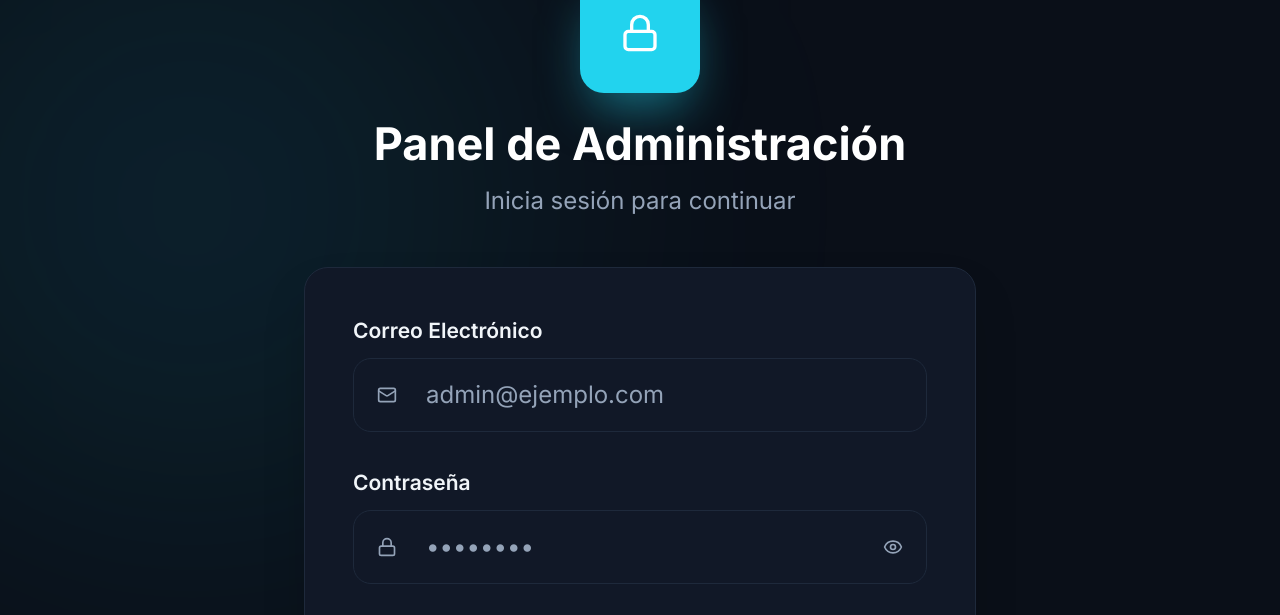
Test case: Admin Login › falla con credenciales incorrectas y se queda en login
The width and height of the screenshot is (1280, 615).
Type "wrong@email.com" into the field with id "email".
click(640, 395); type("wrong@email.com")  # box [353, 358, 927, 432]
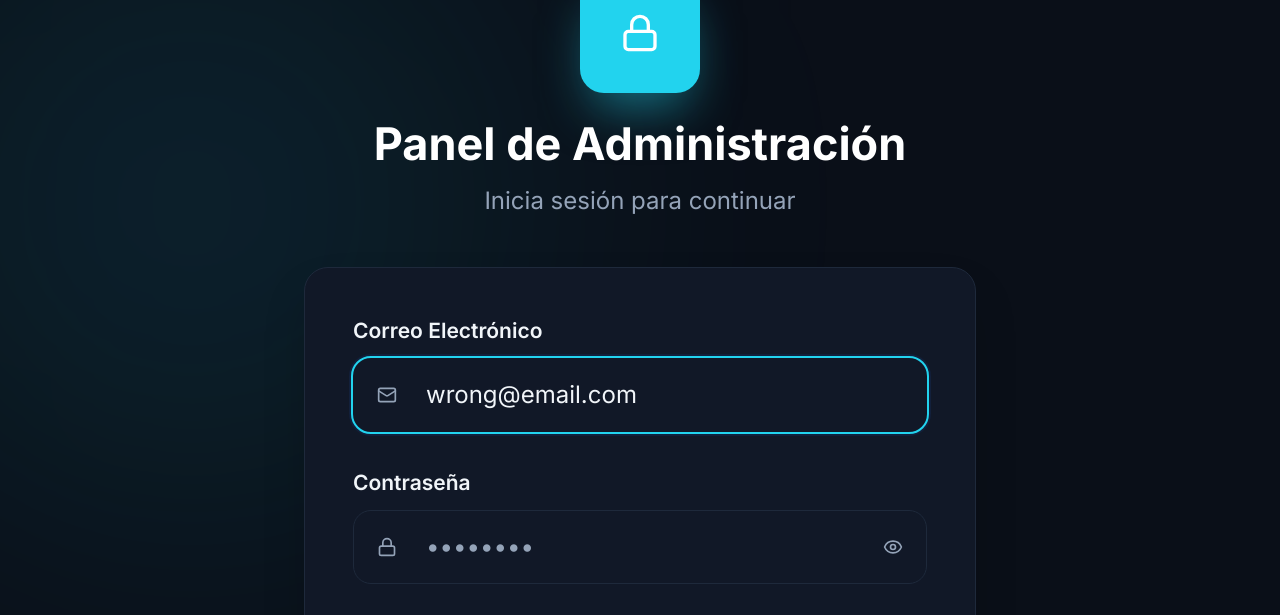
Type "wrongpassword" into the password field labelled "Contraseña".
click(640, 547); type("wrongpassword")  # box [353, 510, 927, 584]
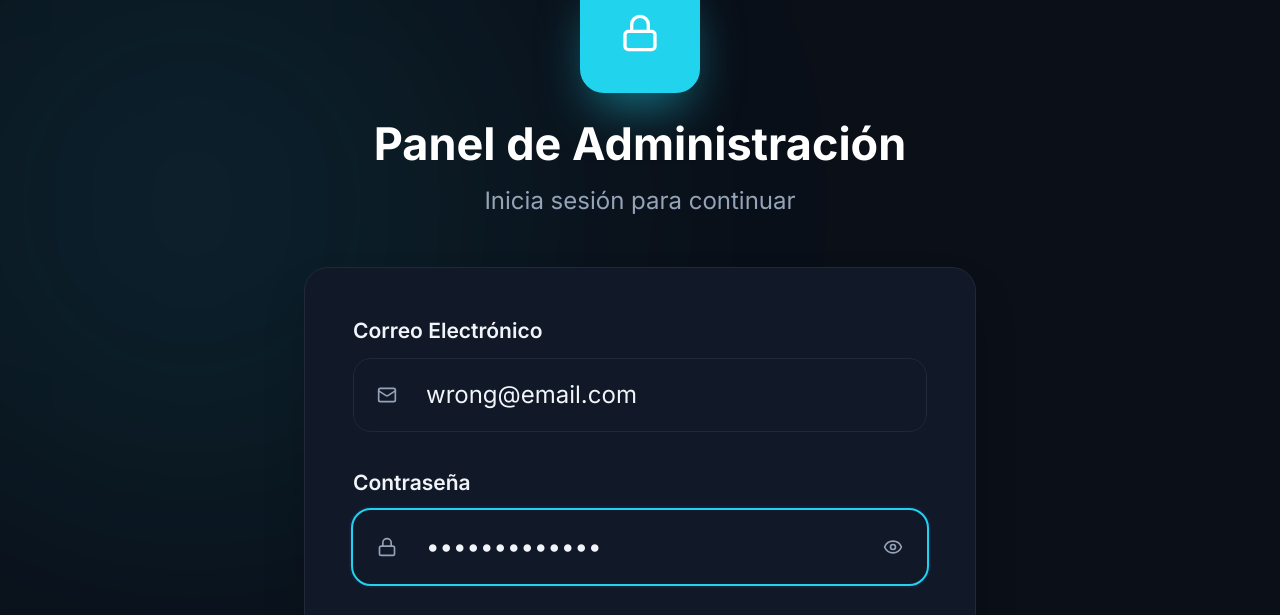
Scroll
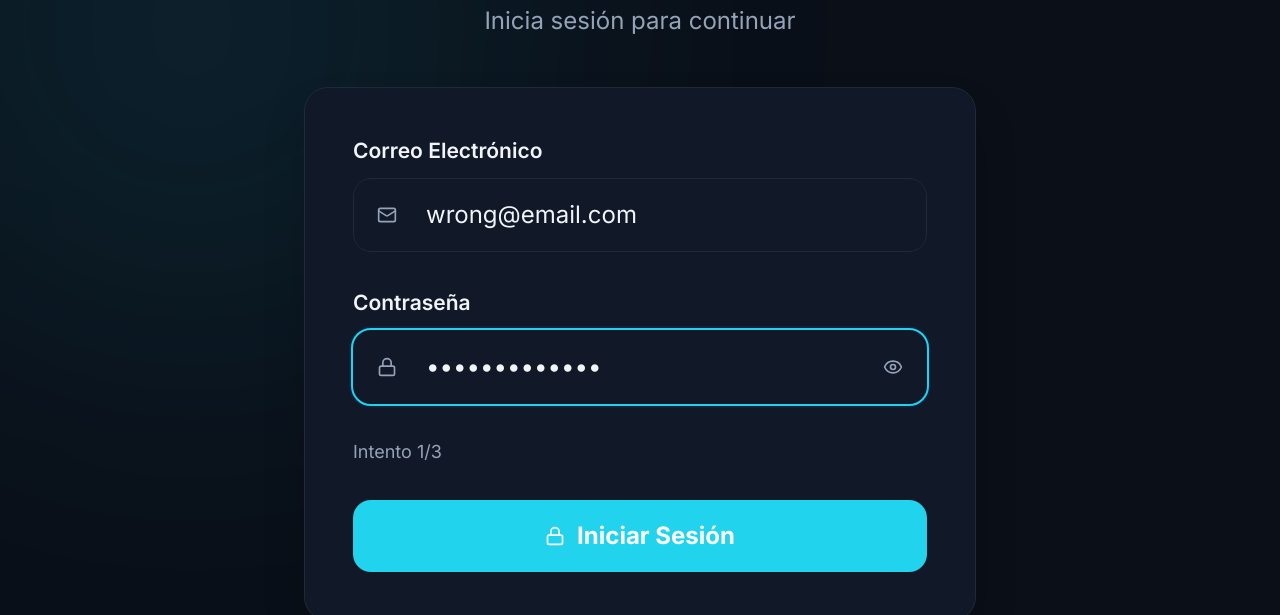
Click the button "Iniciar Sesión".
click(640, 536)  # box [353, 500, 927, 572]
(page scrolled)
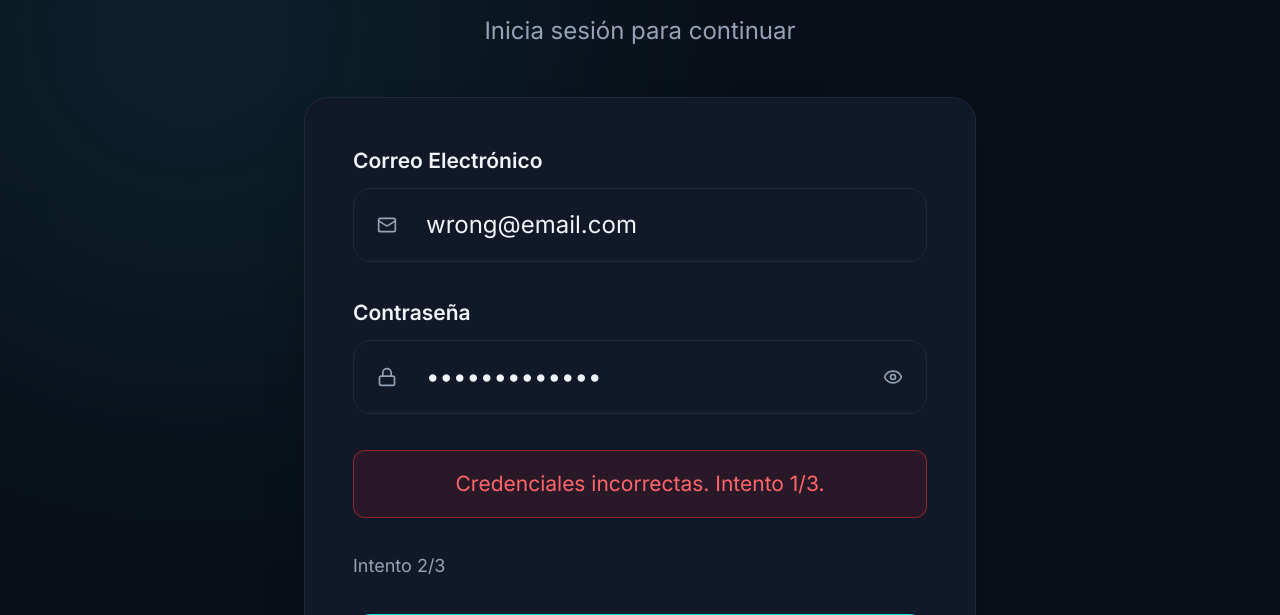
Expected: the text "Credenciales incorrectas. Intento 1/3." is shown, [456, 471, 824, 496]
